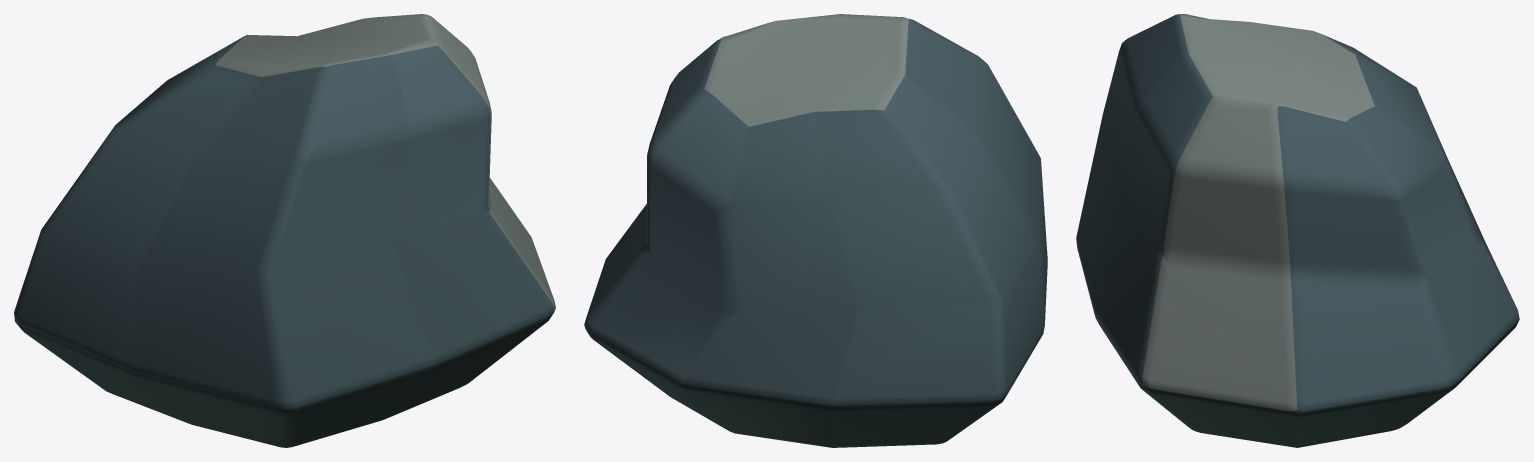
Rendered from rock-basalt.glb.
3 views of the same model, side by side, from view 1: azimuth 30°, elevation 25°; view 2: azimuth 150°, elevation 25°; view 3: azimuth 270°, elevation 25° (orthographic). The views are drawn at different scales.
Parts seen in each view (by area): view 1: Rock basalt; view 2: Rock basalt; view 3: Rock basalt.
Boxes of the visible parts, bbox=[...] form: Rock basalt: bbox=[14, 14, 555, 447]; Rock basalt: bbox=[584, 14, 1047, 447]; Rock basalt: bbox=[1076, 14, 1519, 447].
Bounding box in the file's own units: 2.66 × 1.96 × 2.24.
